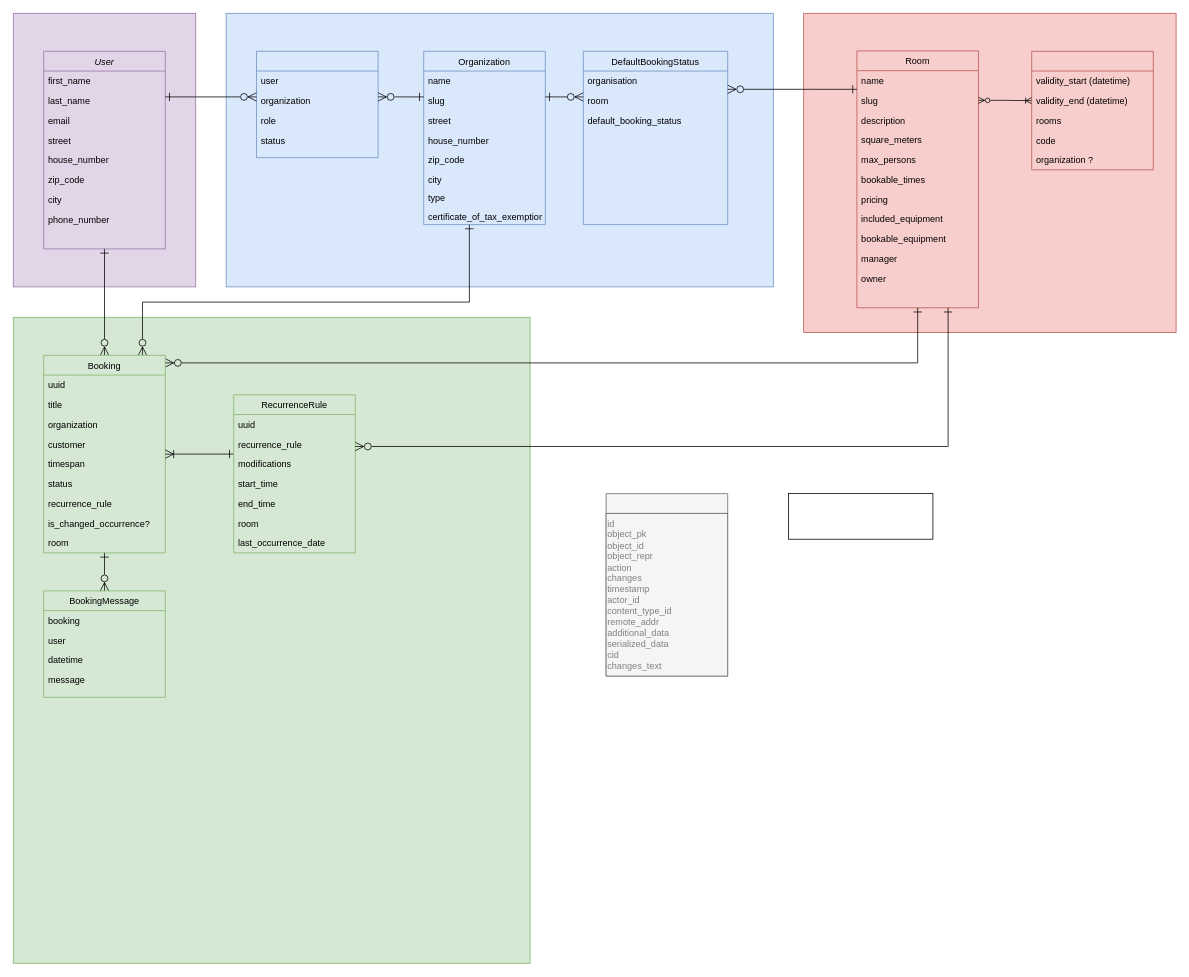
The diagram is 1189 pixels wide and 977 high, and some of its shapes have lost their labels. Each missing label, with the box of its shape:
AccessCode: (1031, 51, 1153, 170)
auditlog_logentry: (605, 493, 728, 676)
BookingPermission: (256, 51, 378, 158)
Manager User / Customer: (788, 493, 933, 539)
